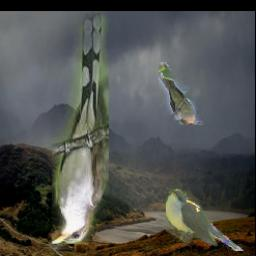Cuckoo: (51, 11, 108, 244), (165, 189, 245, 251), (158, 62, 202, 124)
